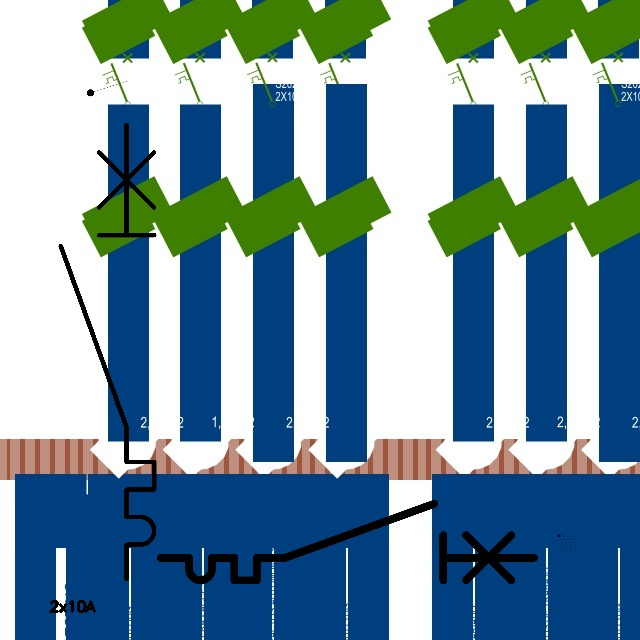interruptor_termomagnetico: (49, 113, 166, 591), (151, 494, 543, 590)
